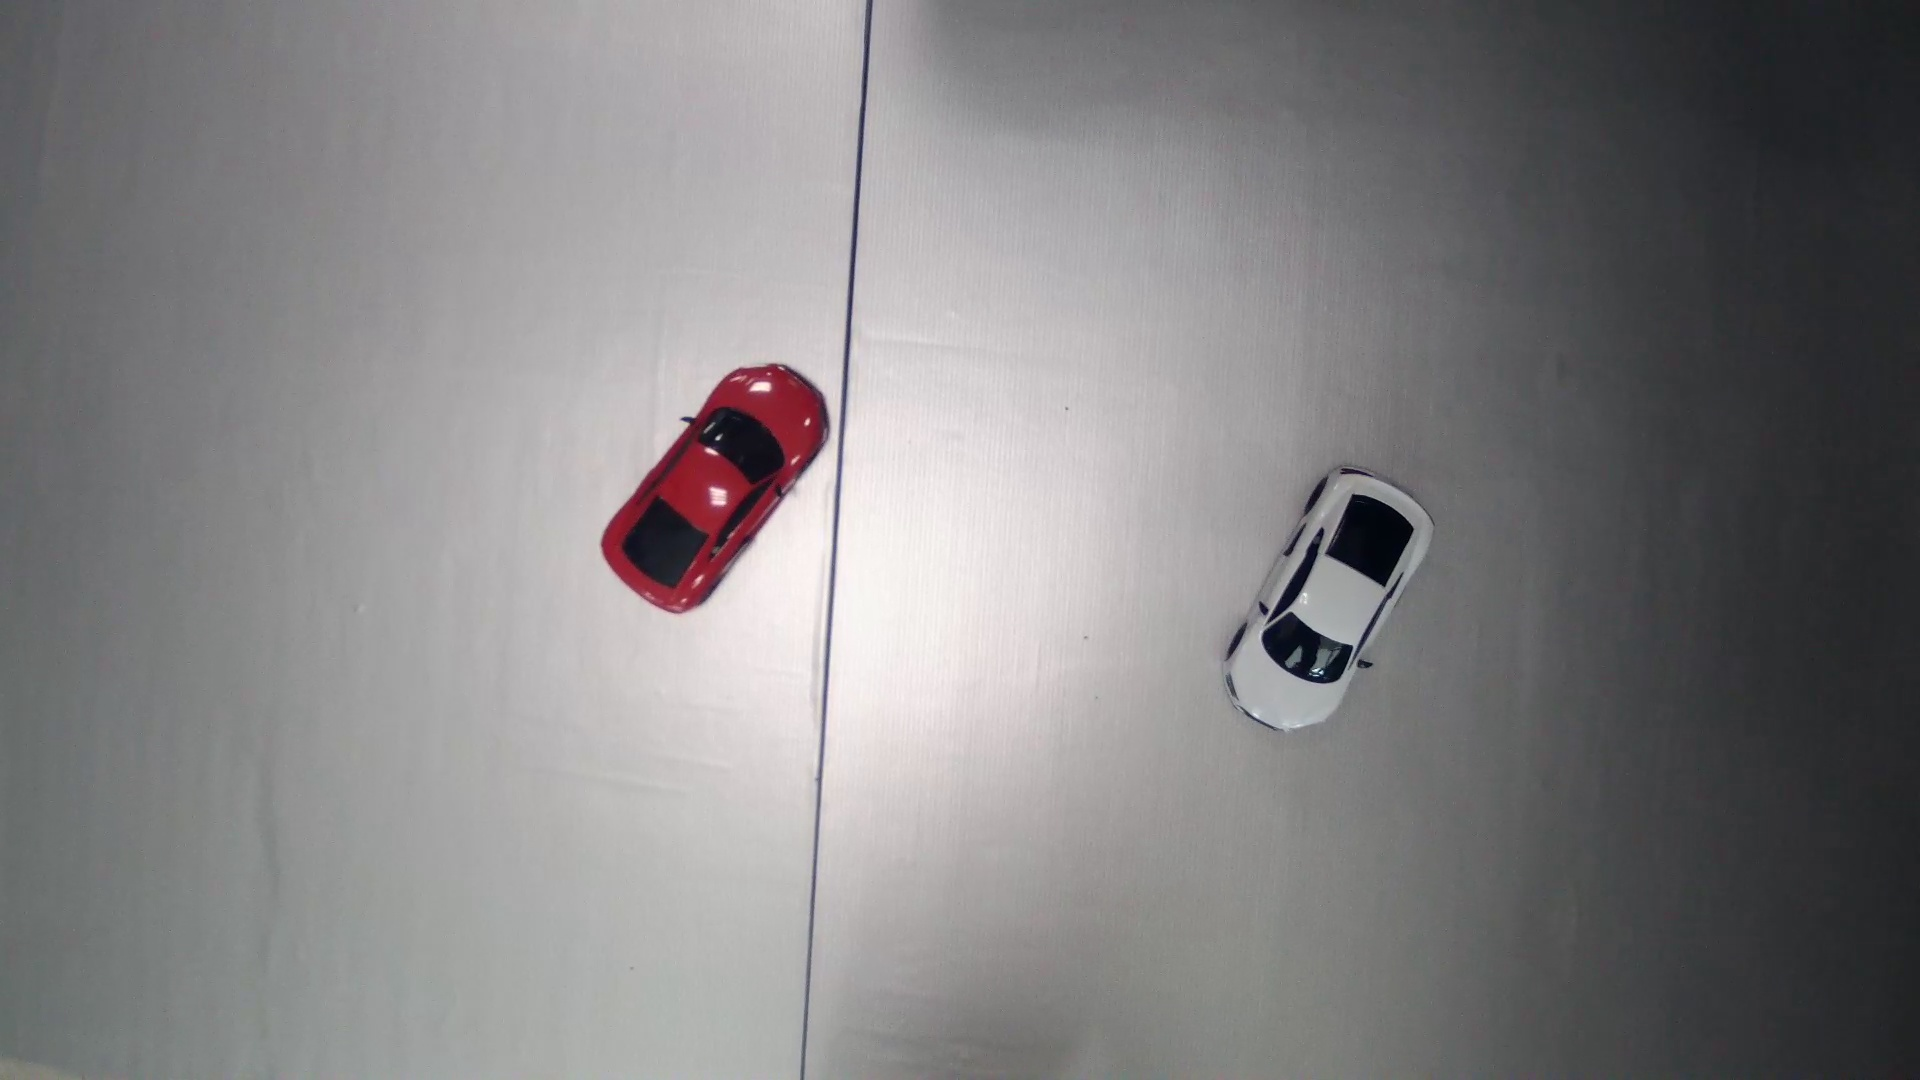remote_car: (600, 357, 831, 618), (1221, 456, 1436, 735)
